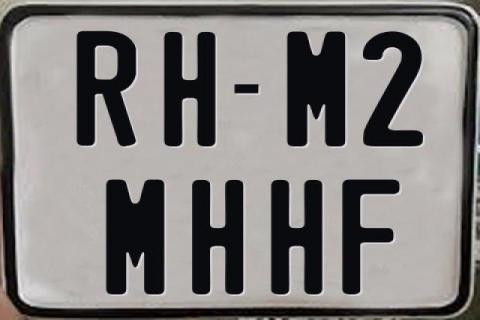0: (362, 29, 423, 145)
F: (339, 178, 398, 294)
H: (270, 177, 326, 297), (162, 30, 219, 144), (191, 180, 242, 296)
M: (284, 29, 348, 145), (105, 178, 167, 294)
R: (75, 29, 139, 147)
